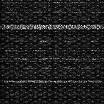lte: (1, 24, 104, 30), (1, 80, 104, 83)
